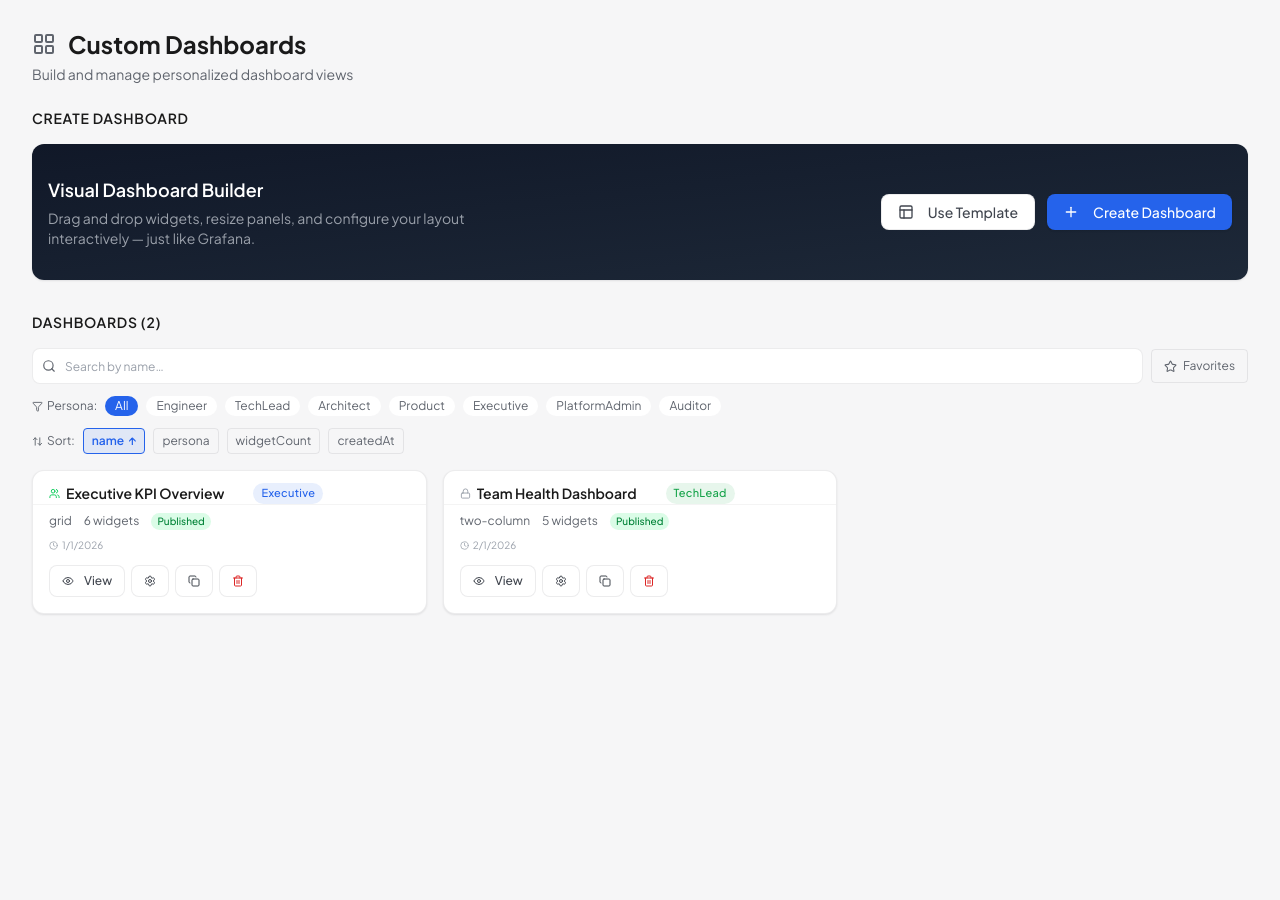
CustomDashboardsPage › opens delete confirm dialog when Delete button is clicked
Click the button named "Delete" below "1/1/2026".
click(238, 581)  # box [219,565,257,597]
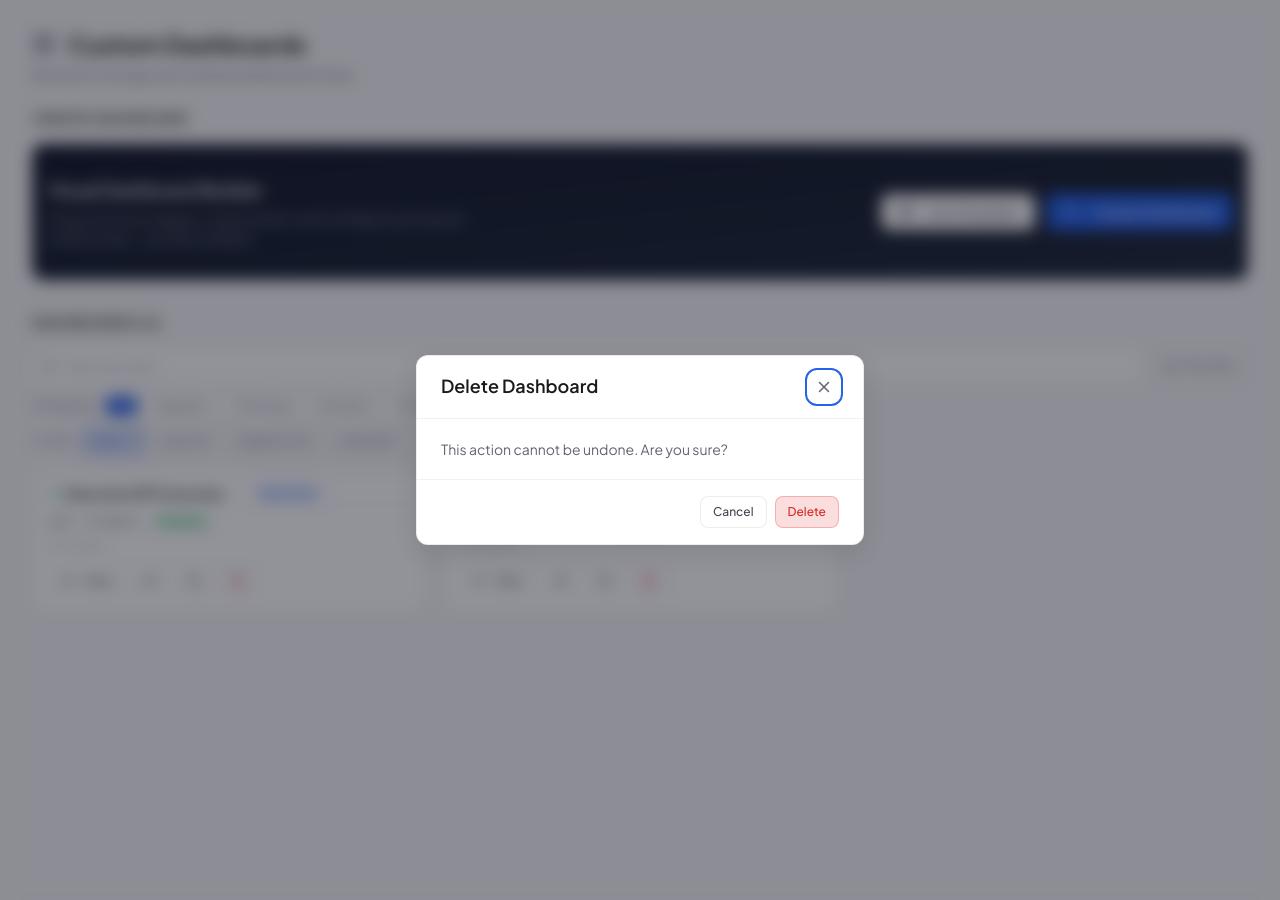
Expected: the text "Delete Dashboard" is shown, [441,372,598,400]
